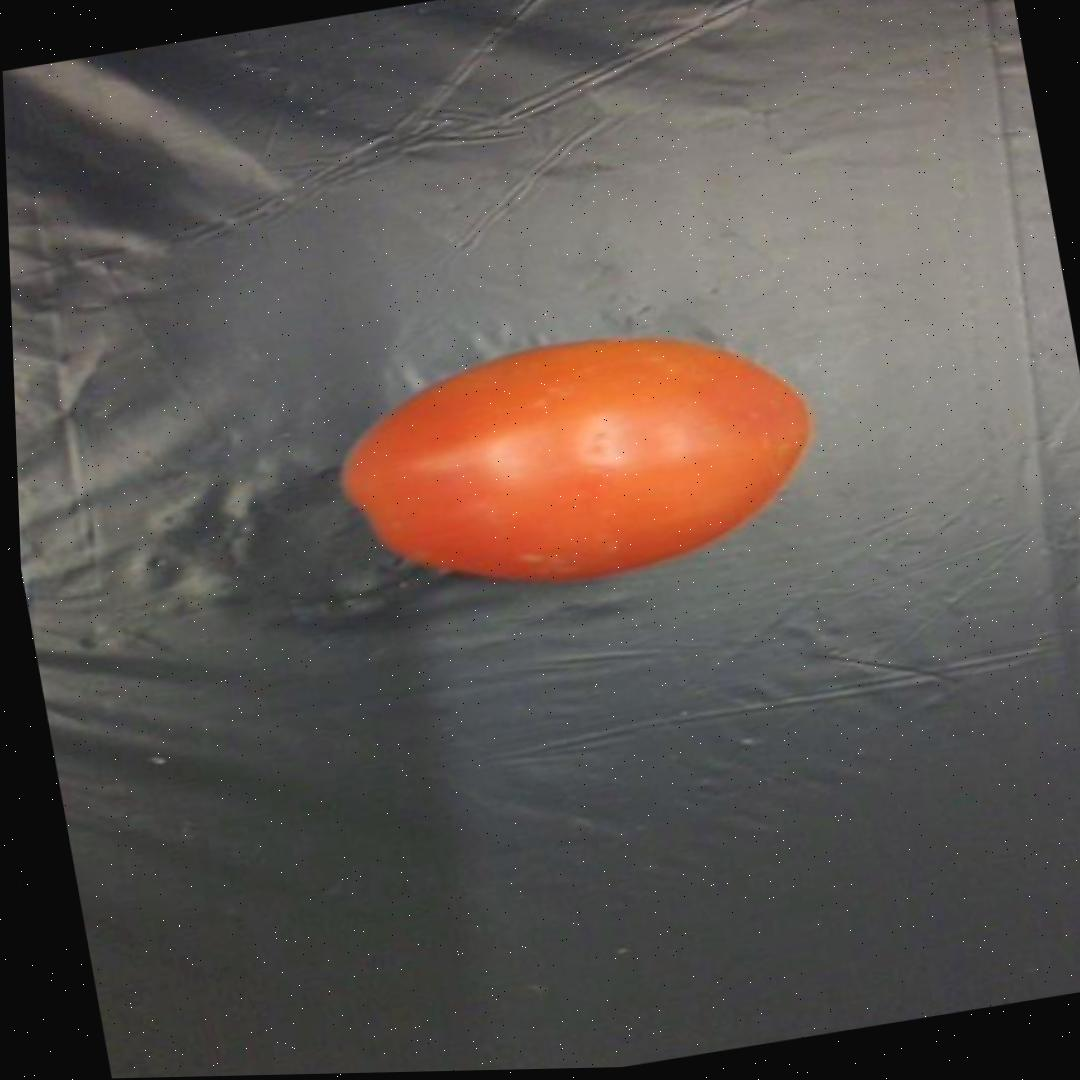matang: (317, 302, 829, 610)
